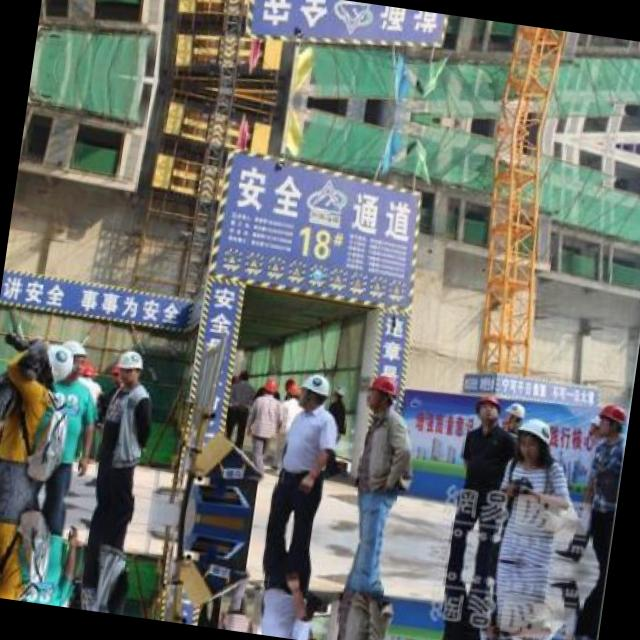helmet: (510, 413, 558, 471), (29, 338, 73, 392), (361, 368, 398, 420), (295, 370, 331, 414), (592, 398, 626, 442), (60, 338, 93, 383), (471, 388, 504, 430), (116, 348, 148, 388), (503, 398, 526, 434), (329, 380, 349, 406), (262, 373, 279, 396), (282, 381, 297, 404)
